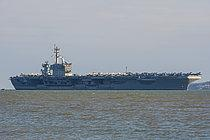MIL_Ship: (8, 44, 203, 92)
